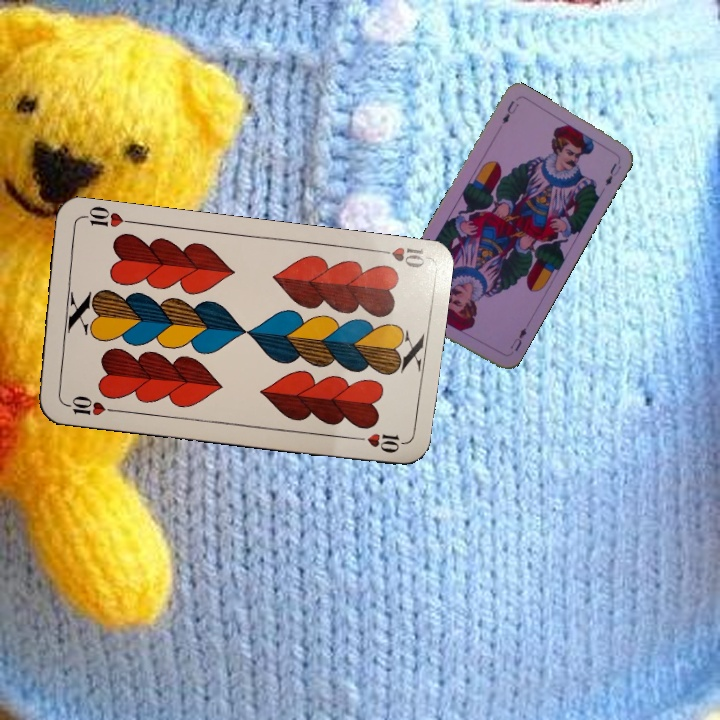EU: (506, 323, 529, 354), (498, 96, 521, 127)
H10: (58, 391, 117, 419), (369, 243, 428, 271)
